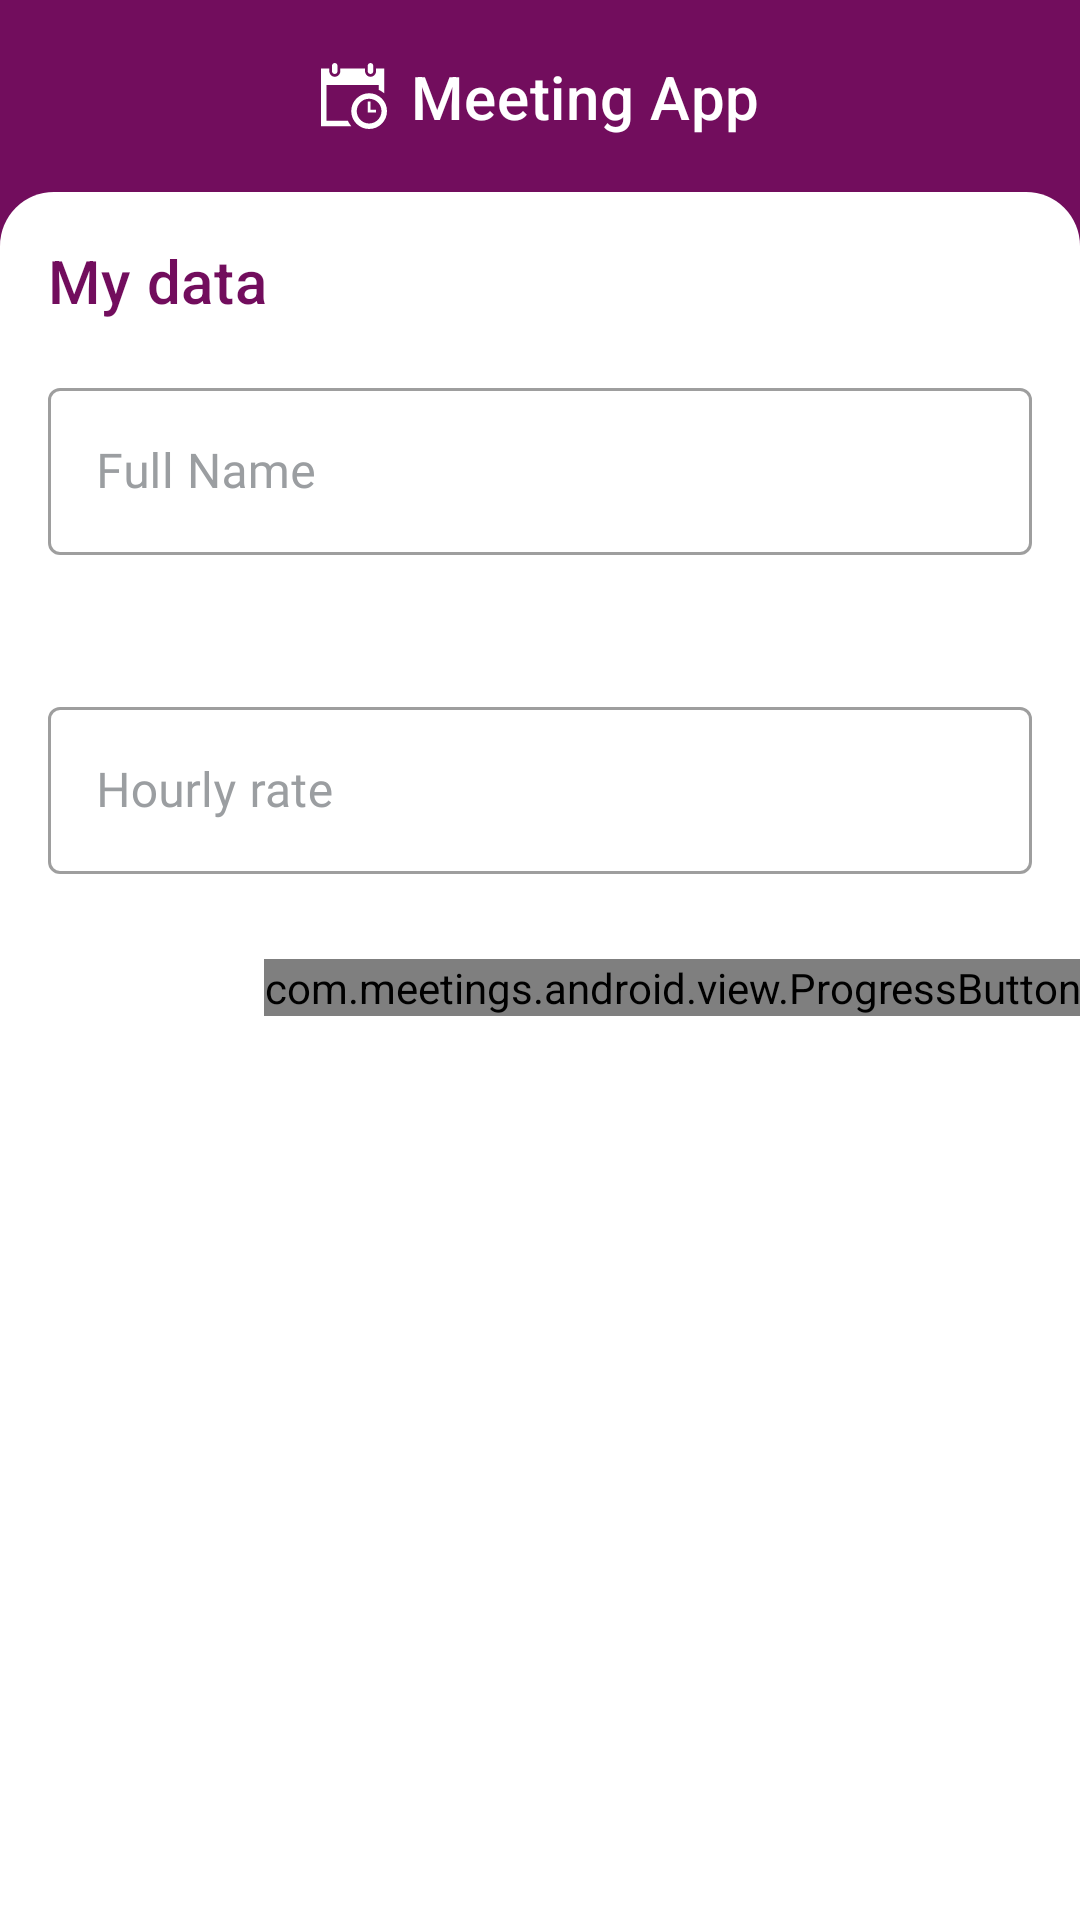

Point at icon controls on the screen. Image size 1080*1920, points as [x,y].
calendar: [354,96]
